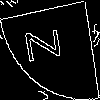Z: (25, 25, 70, 63)
